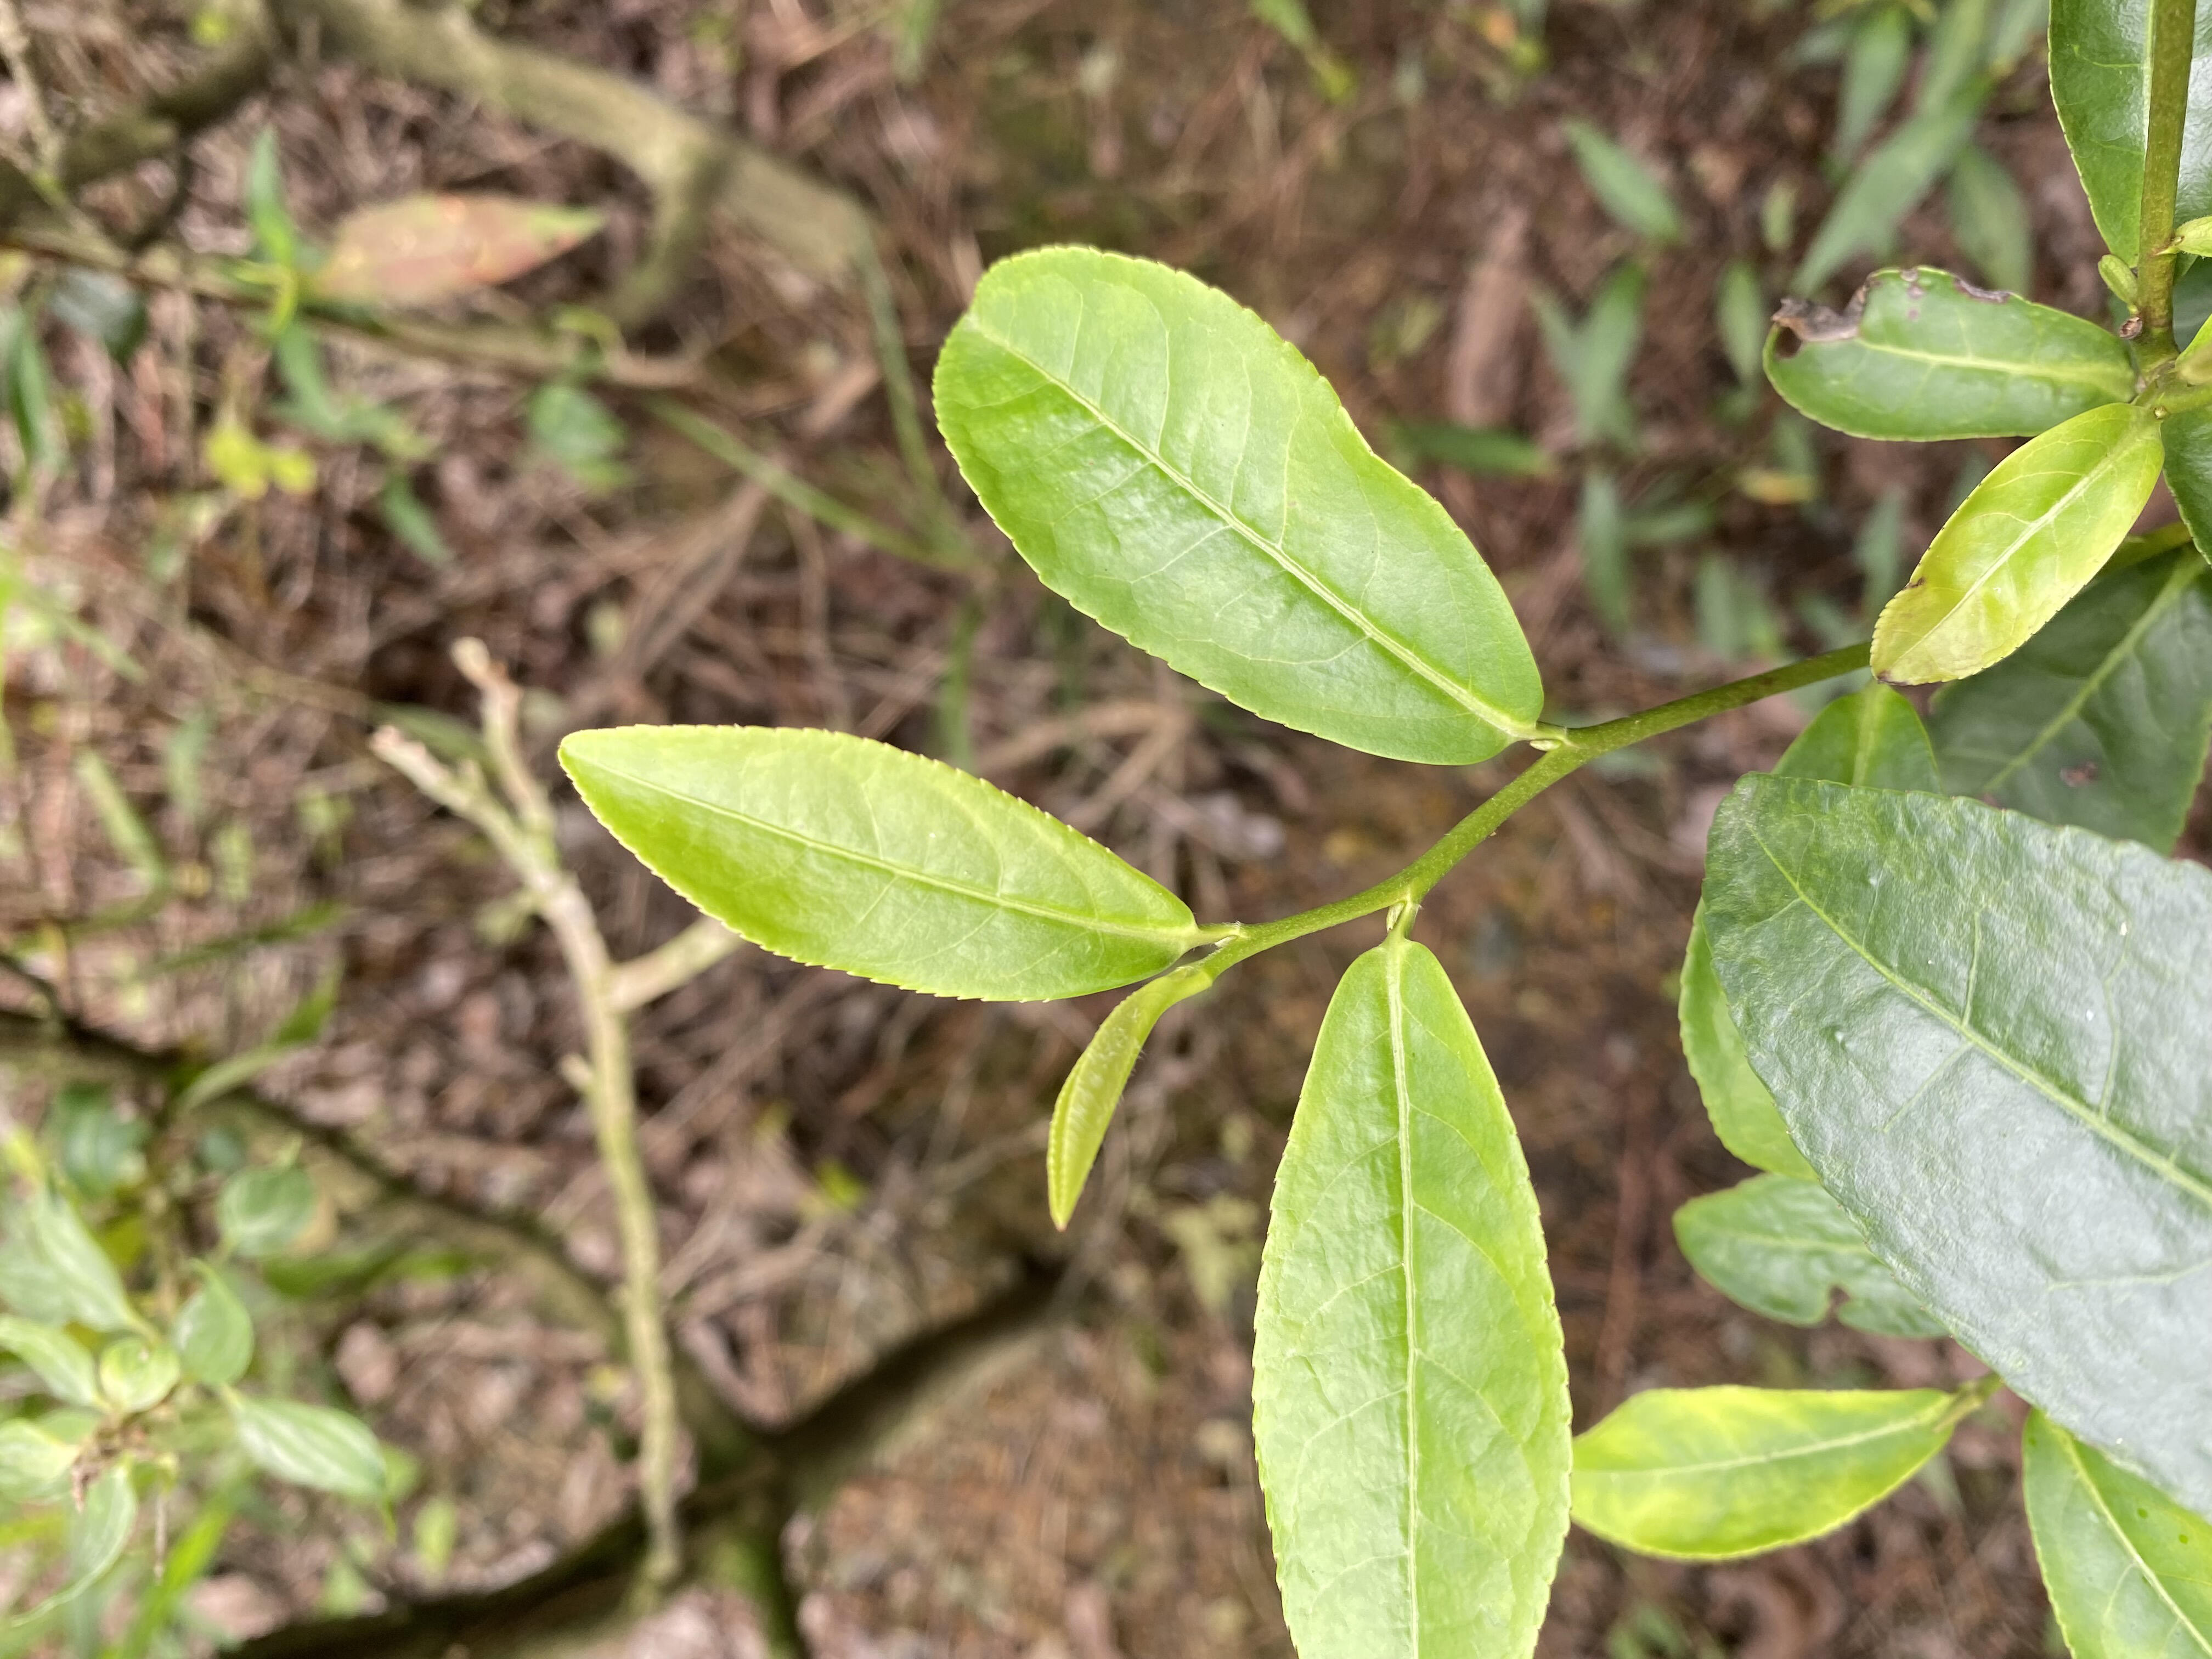chihuo_low: (1669, 1173, 1952, 1344)
healthy: (1703, 767, 2210, 1518), (932, 242, 1547, 770), (1247, 943, 1580, 1657), (554, 720, 1197, 1002), (1578, 1384, 1959, 1558)
tanju_high: (1759, 263, 2127, 444)
tanju_low: (1867, 401, 2168, 687)
